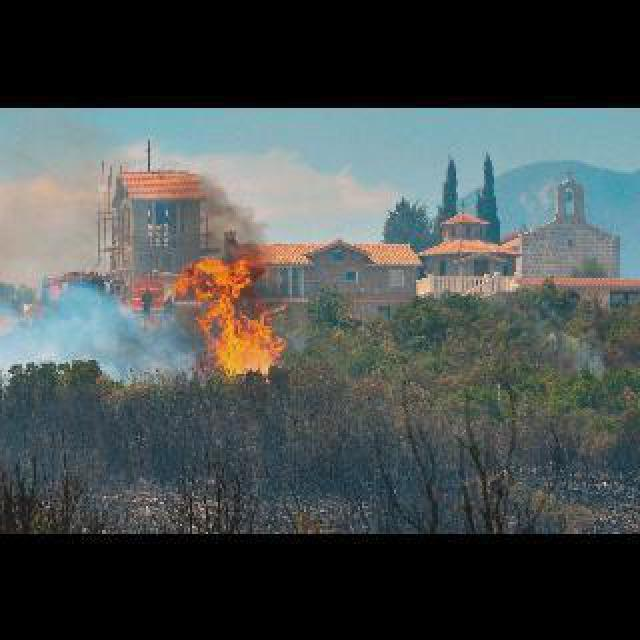Fire: (178, 258, 292, 376), (24, 298, 36, 310)
Smoke: (2, 282, 188, 376), (175, 169, 264, 291)
